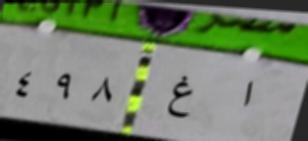4: (13, 70, 35, 107)
8: (87, 73, 114, 112)
9: (51, 67, 75, 109)
alif: (234, 76, 257, 115)
ghayn: (165, 68, 198, 123)
